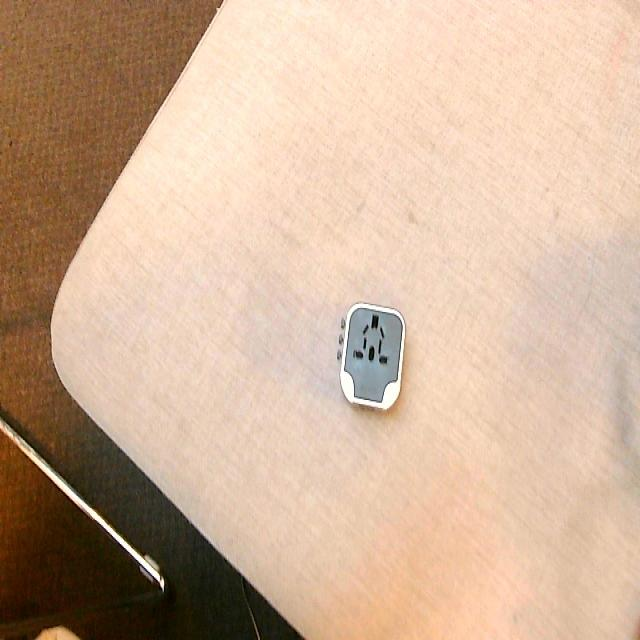adapter: (337, 300, 405, 409)
